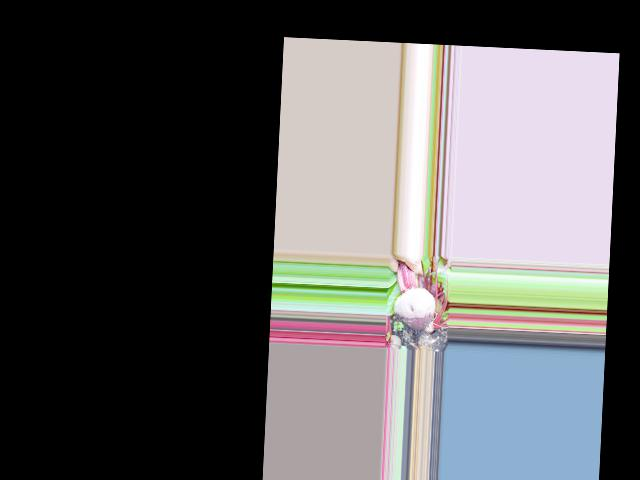beet: (392, 260, 437, 351)
